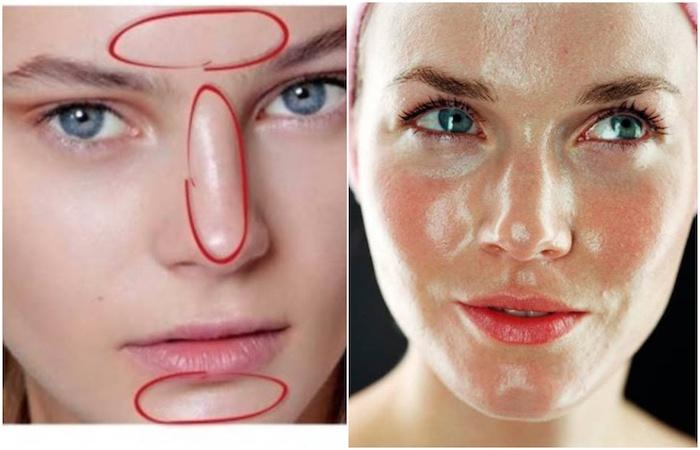Oily-Skin: (363, 116, 671, 307), (395, 0, 672, 112), (433, 316, 605, 412)
